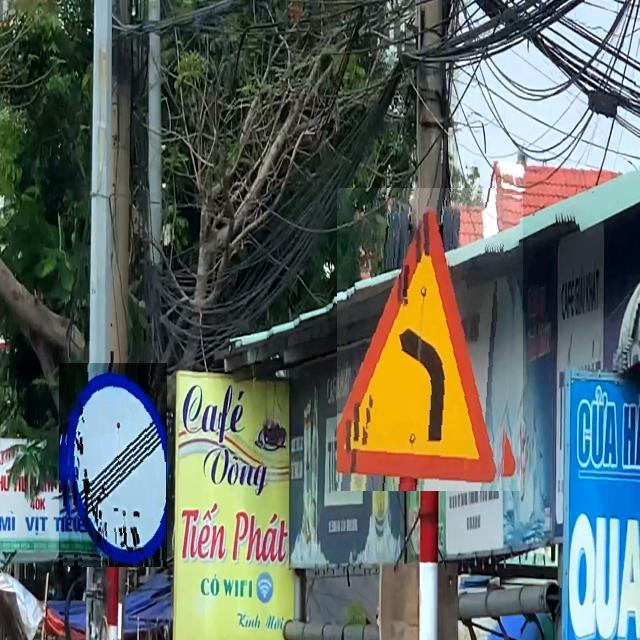DP-135: (60, 363, 168, 567)
W-201a: (338, 188, 524, 491)
